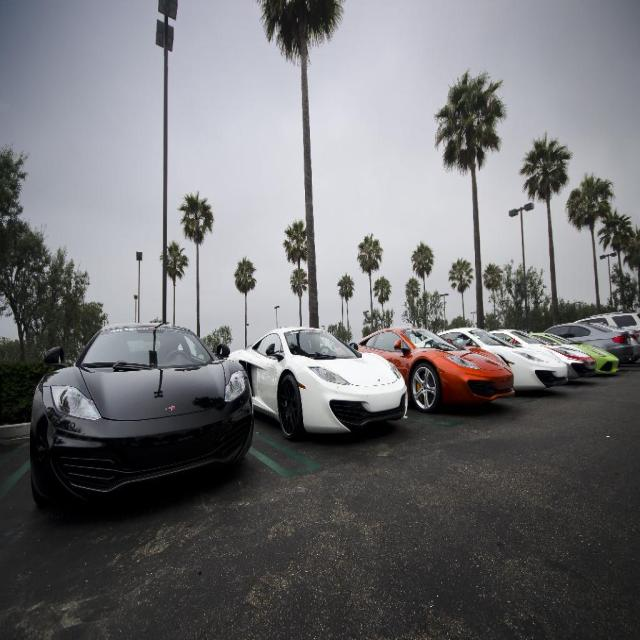car: (24, 313, 255, 512)
